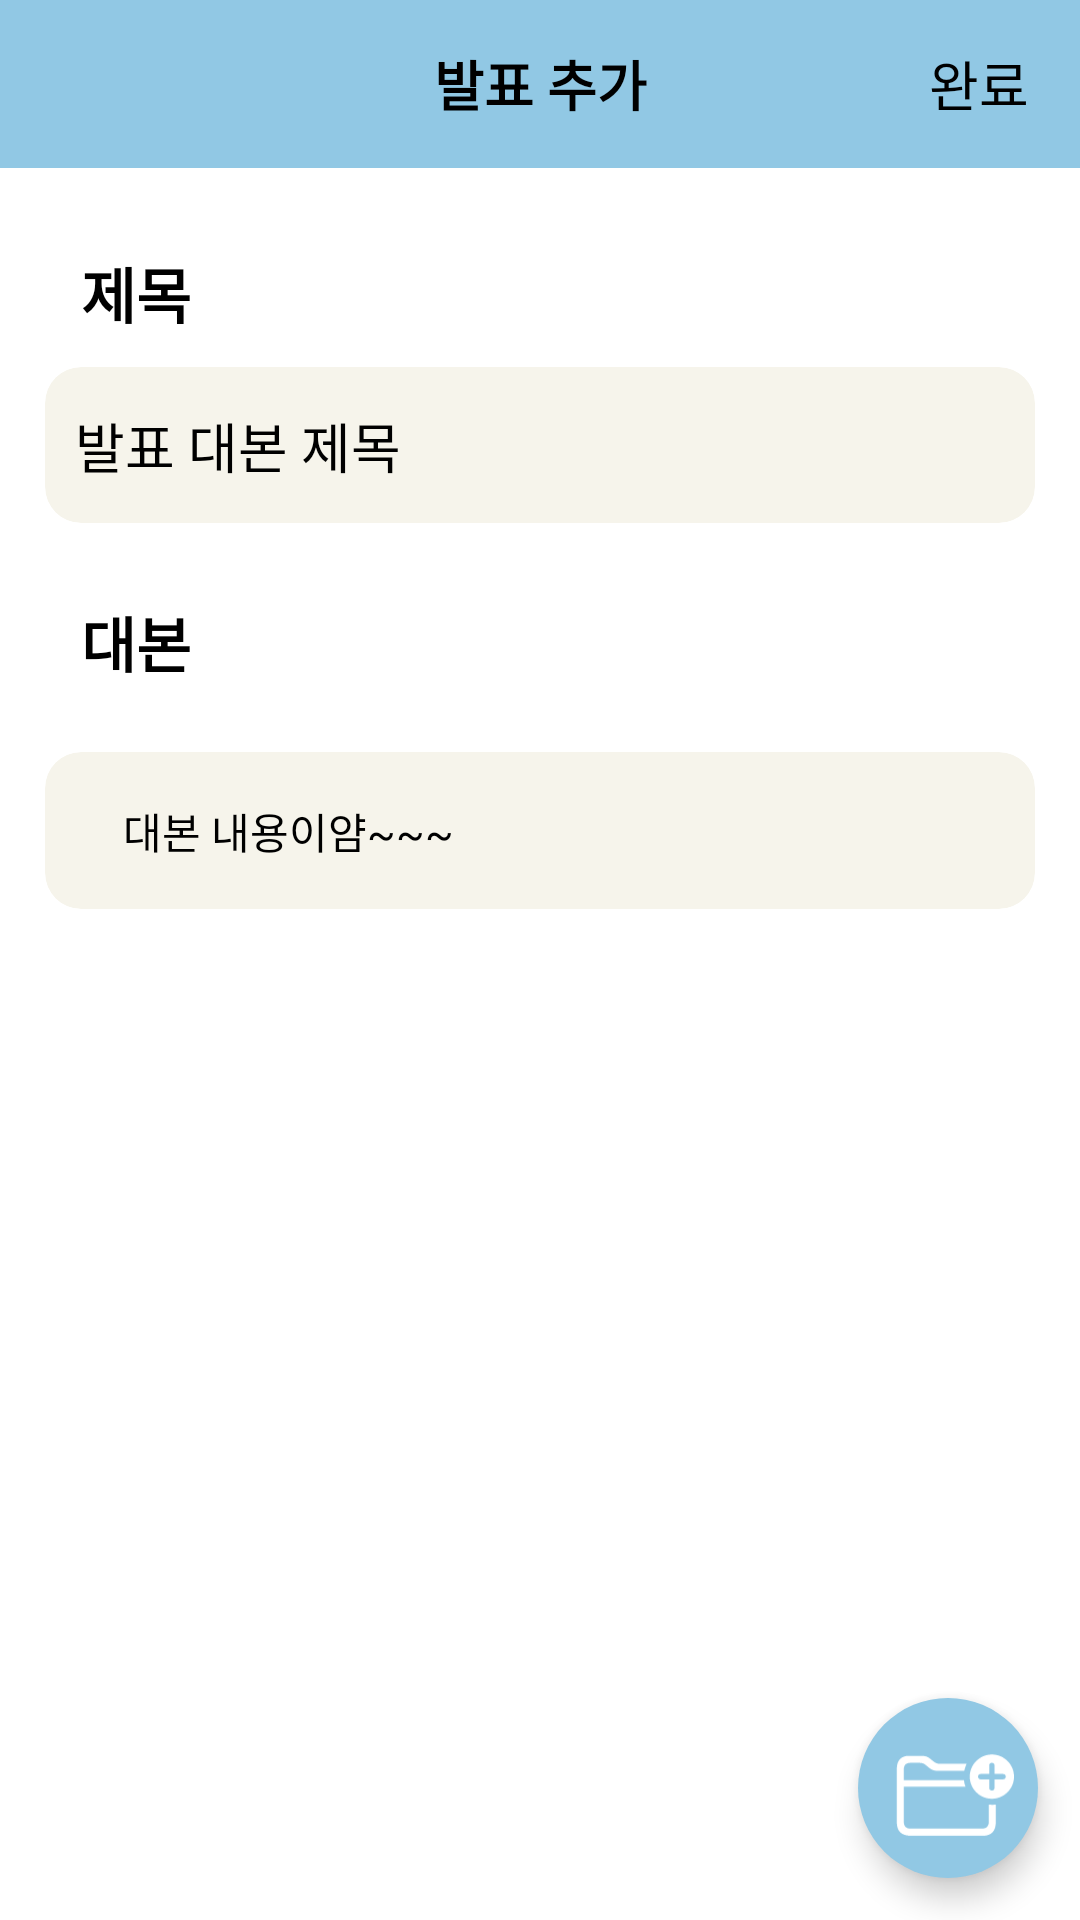

Screen size 1080*1920. Icon name, then its box in pixels as (x1, y1, x2, y2):
add file: (858, 1698, 1038, 1878)
